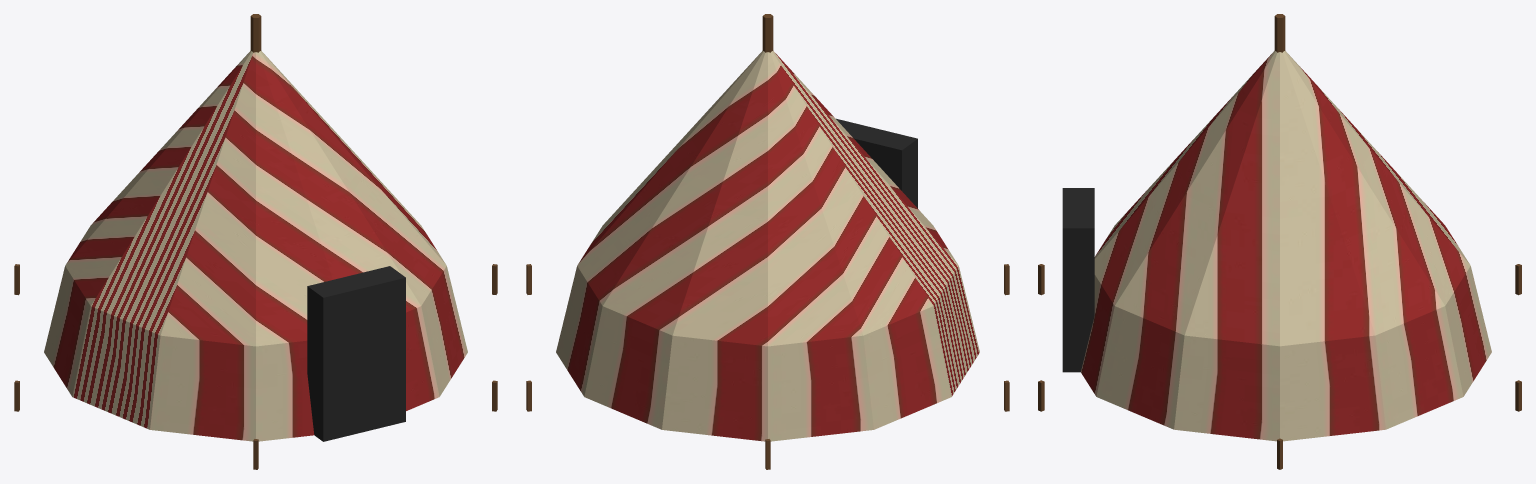
Rendered from tent_soldier.glb.
3 views of the same model, side by side, from view 1: azimuth 30°, elevation 25°; view 2: azimuth 150°, elevation 25°; view 3: azimuth 270°, elevation 25° (orthographic).
Visible parts, largest first — view 1: Tent_Soldier; view 2: Tent_Soldier; view 3: Tent_Soldier.
Part boxes in pixels (left/top/right/bottom): Tent_Soldier: left=14, top=14, right=497, bottom=469; Tent_Soldier: left=526, top=14, right=1009, bottom=469; Tent_Soldier: left=1038, top=14, right=1521, bottom=469.
Bounding box in the file's own units: 5.26 × 3.6 × 4.56.
3 materials, 2 textured.
